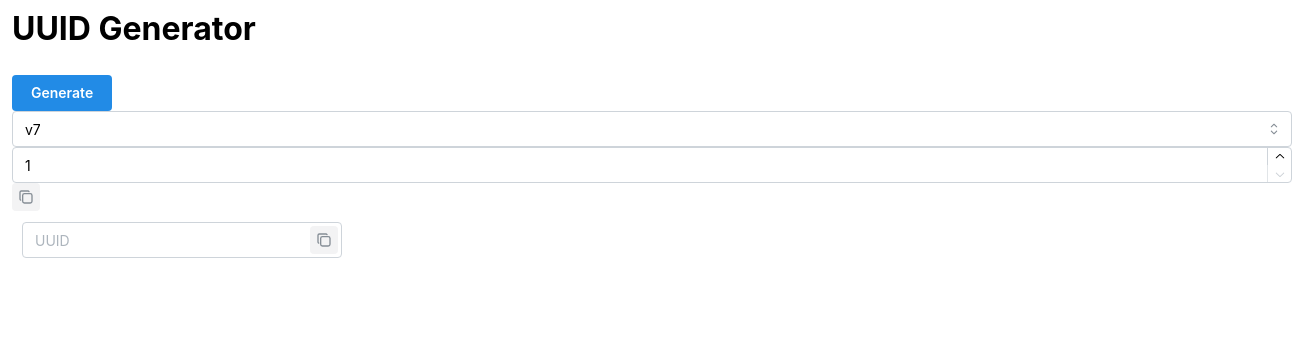
UUIDGenerator › generates UUIDs with selected version
Try to find the option by text first if findByRole is failing
Click the field with test id "version-selector".
click(652, 130)  # box [12, 112, 1292, 148]
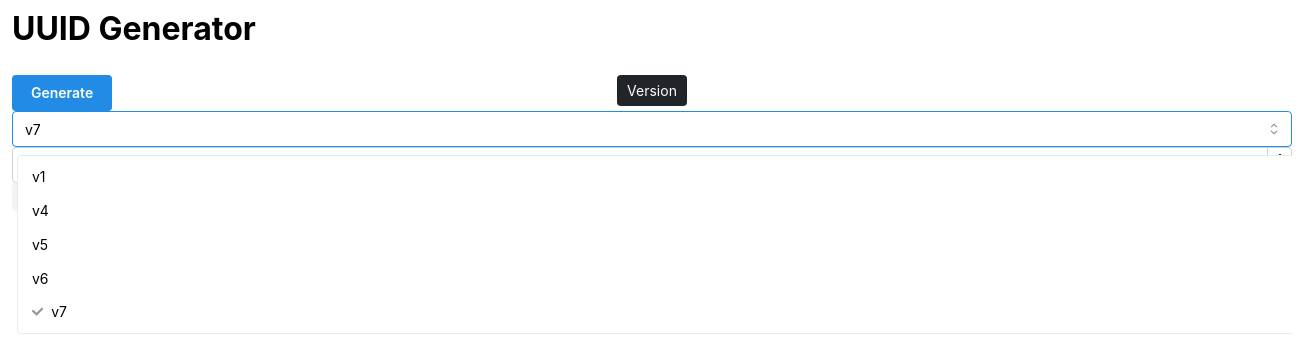
Click the option "v7".
click(50, 312)  # box [32, 303, 67, 320]
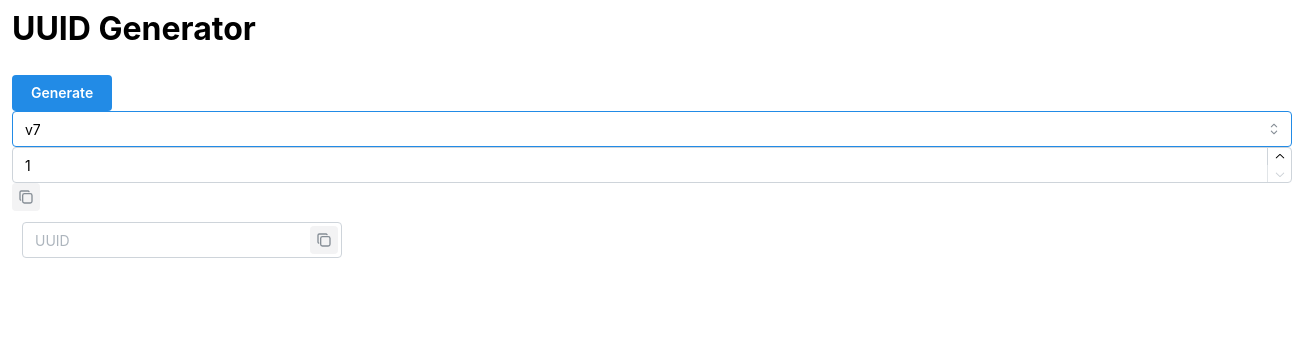
Expected: the field with test id "version-selector" holds "v7", [12, 112, 1292, 148]
Click the button "Generate".
click(62, 94)  # box [12, 76, 112, 112]
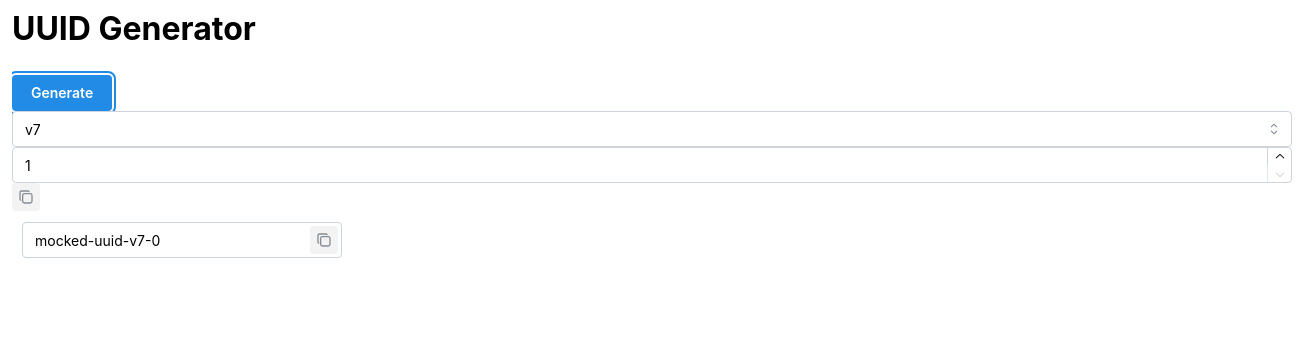
Result: the 3rd field with placeholder "UUID" holds "mocked-uuid-v7-0" at [22, 222, 342, 258]
